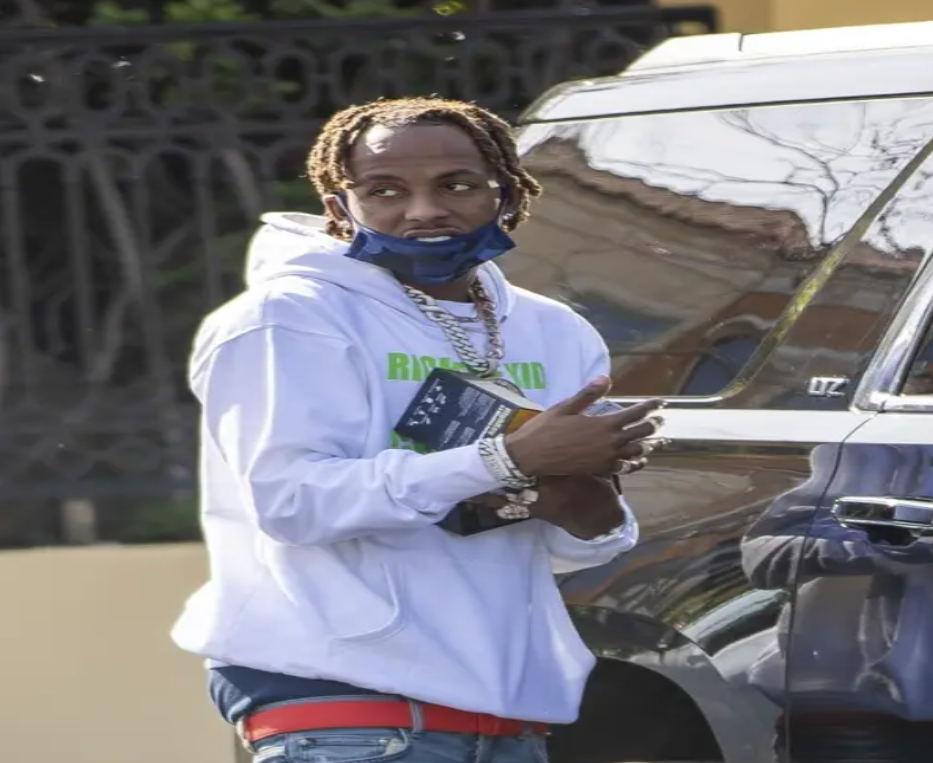mask_weared_incorrect: (308, 97, 538, 288)
